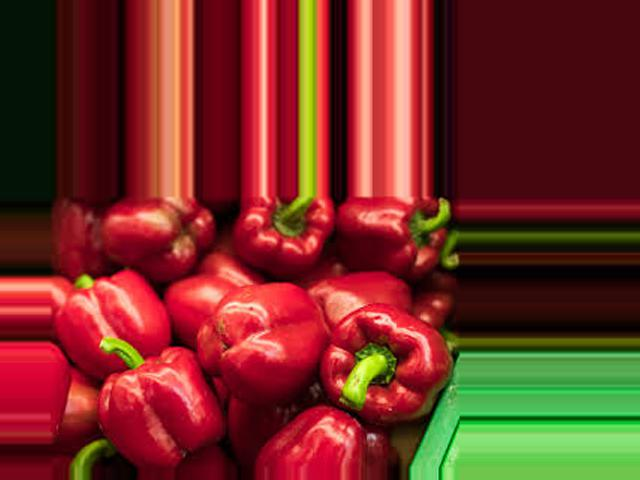bell_pepper: (341, 196, 451, 274)
